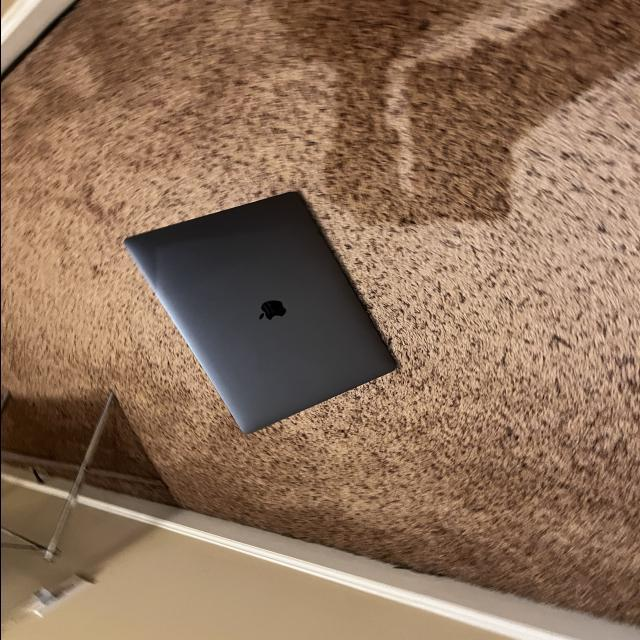laptop: (121, 188, 398, 434)
